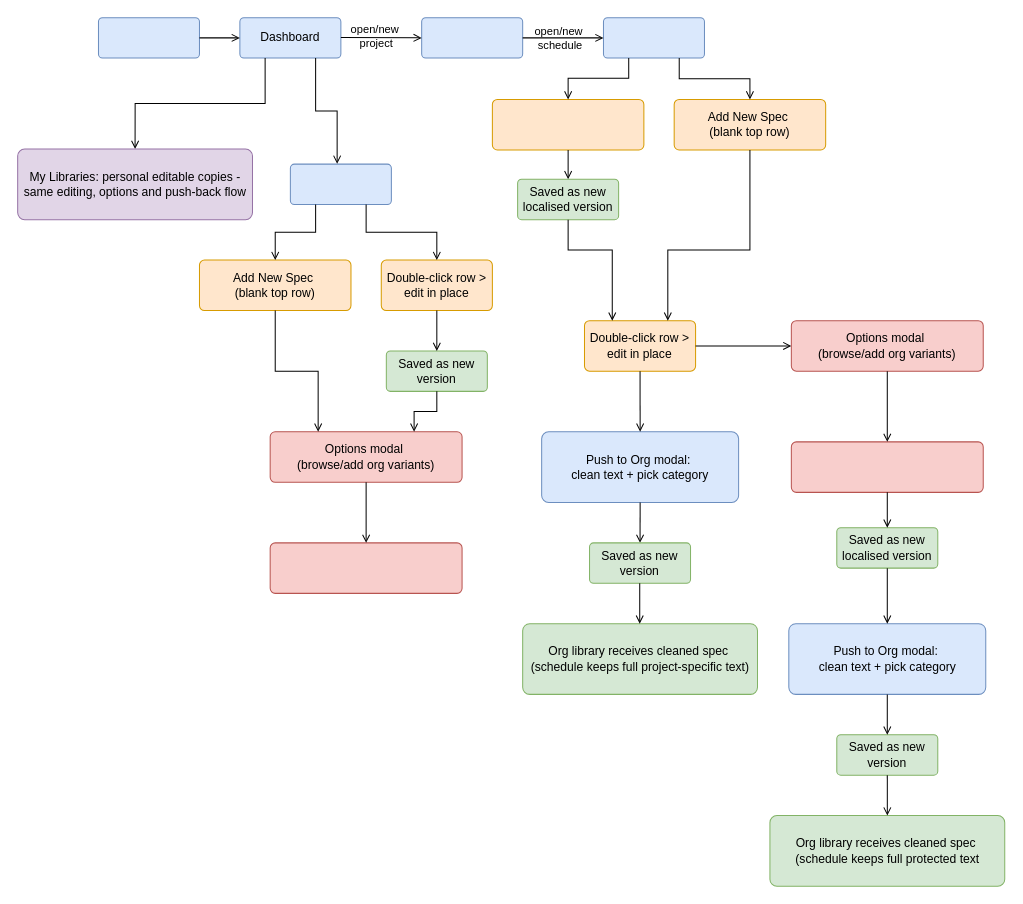
Some shapes in this 1023 by 904 pixel diagram are drawn without their labels. Here are the shapes that lost their labels. From the top down, the box of each, then its label:
(97, 17, 199, 58): Login
(421, 17, 523, 58): Project page
(602, 17, 704, 58): Schedule
(491, 98, 644, 150): Search org Library > add spec to schedule
(289, 163, 391, 205): Org Libraries
(790, 441, 983, 492): Add to Schedule / Update Item
(269, 542, 462, 593): Create New Option / Add to Schedule / Add to library
